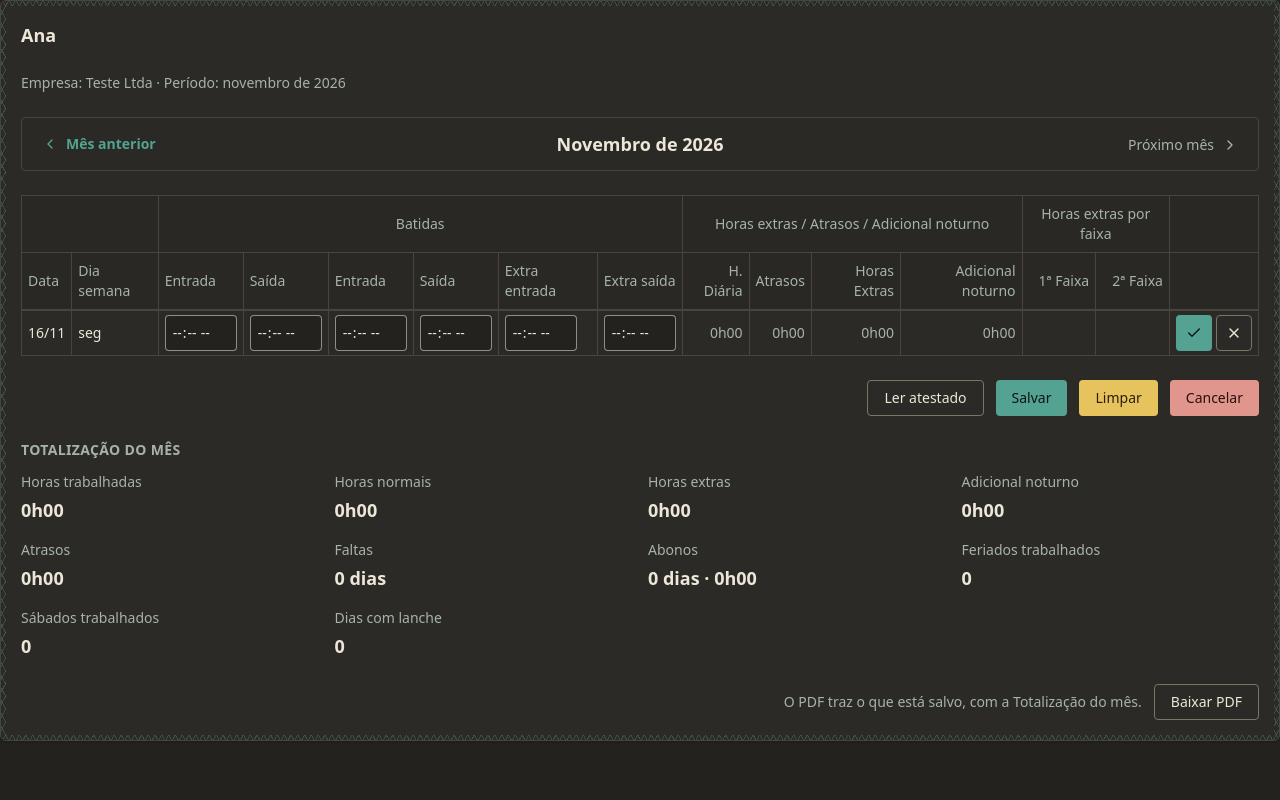
Scenario: CartaoDePontoContainer › Salvar da tabela no cartão novo, sem digitar nada, inicia o cartão (os dias vazios viram falta)
What coordinates should you click on to do the following:
click the button "Salvar"
I would click on:
 (1032, 398)
Its box is [996,380,1068,416].
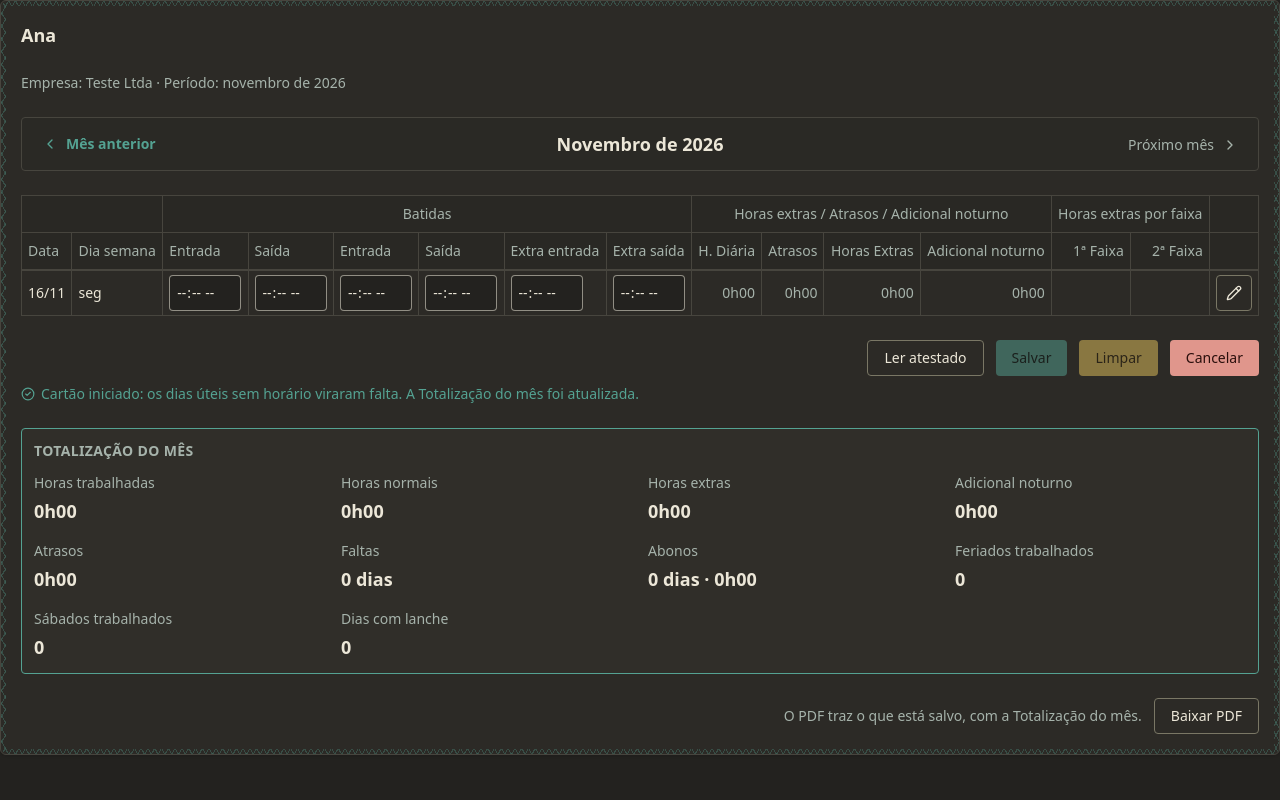
Now the text "Cartão iniciado: os dias úteis sem horário viraram falta" is shown, box [41,384,639,403]
